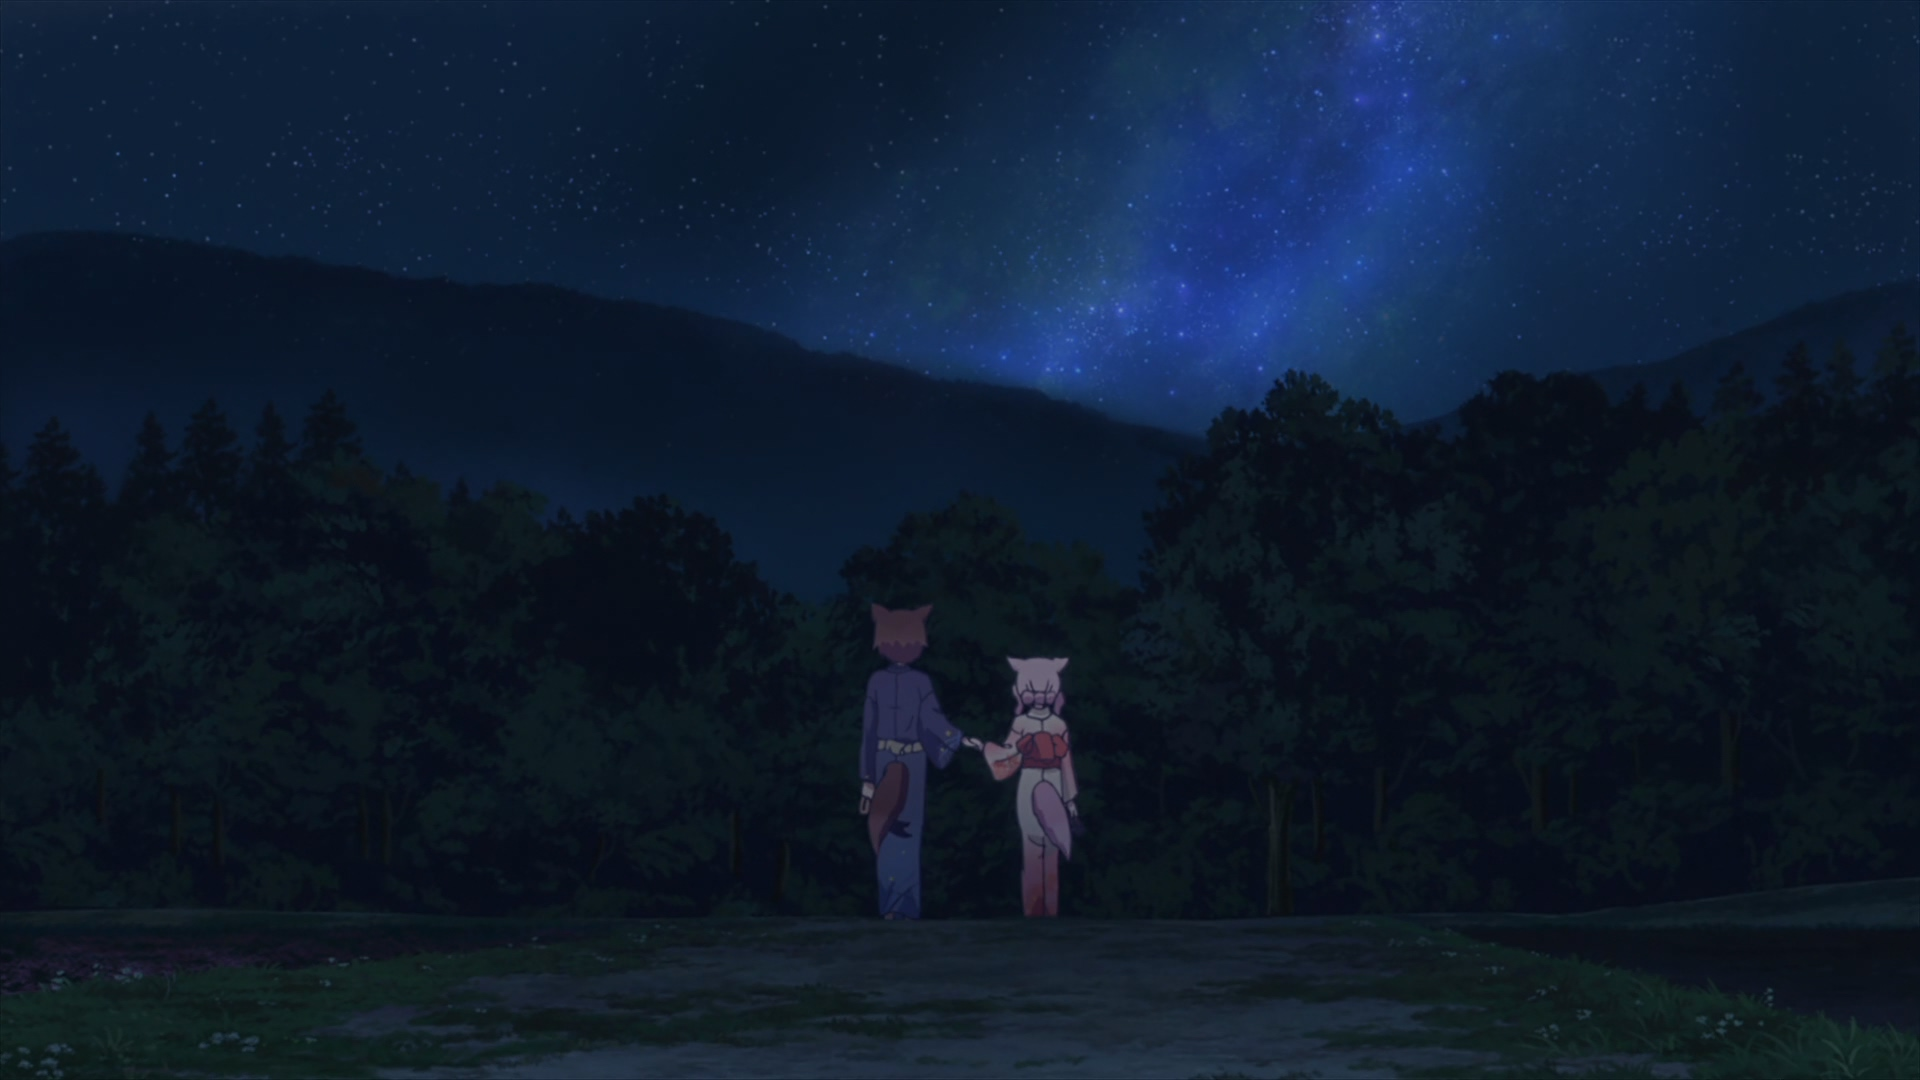枣: (858, 601, 976, 916)
莲: (973, 655, 1077, 919)
